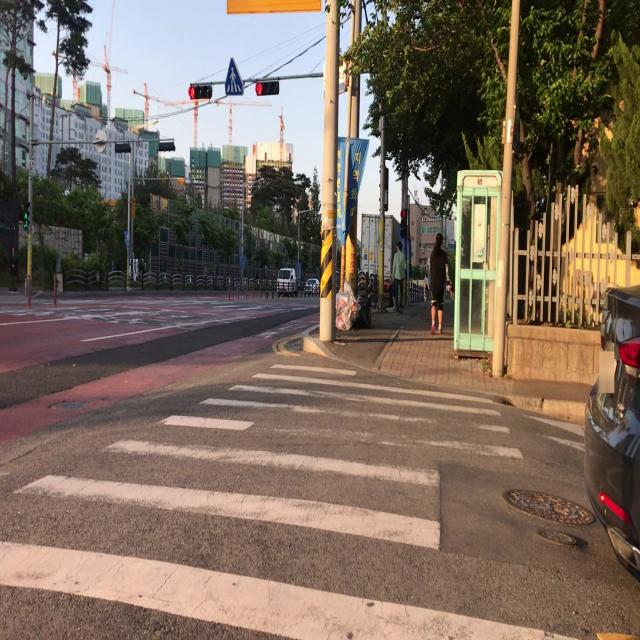초록불: (23, 201, 29, 231)
횡단보도: (0, 358, 580, 640)
